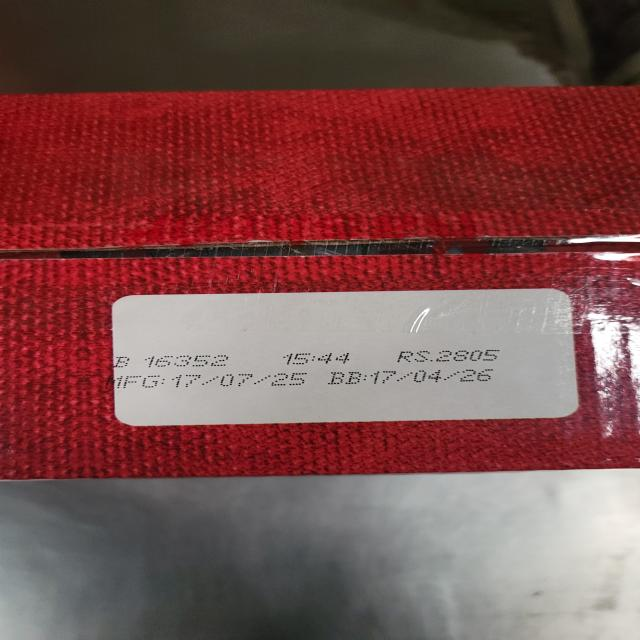BB: (330, 369, 500, 385)
Batch: (114, 356, 235, 368)
MFG: (116, 373, 302, 389)
RS: (394, 350, 502, 362)
TimeStamp: (280, 352, 354, 365)
